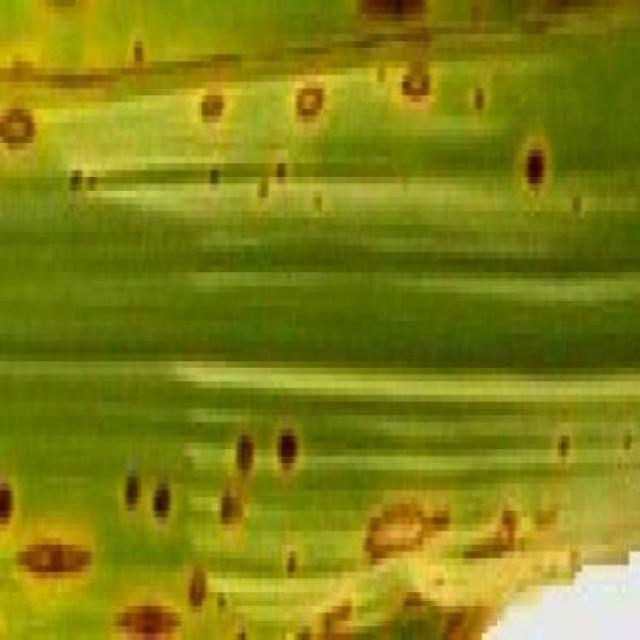Bacterial_Leaf_Blight: (362, 459, 453, 564), (354, 0, 437, 112), (15, 509, 97, 591), (1, 29, 42, 165), (282, 40, 336, 132), (435, 586, 500, 640), (314, 572, 358, 639)
Leaf_Blast: (460, 457, 566, 575), (126, 414, 177, 538), (190, 50, 238, 156), (253, 112, 295, 226), (110, 577, 181, 640), (63, 133, 103, 241), (118, 416, 150, 536), (517, 104, 558, 190), (529, 0, 609, 38), (612, 396, 640, 498), (122, 2, 150, 103), (299, 181, 330, 270), (550, 392, 576, 492), (212, 463, 246, 539), (354, 0, 432, 31), (0, 430, 23, 535), (182, 533, 212, 612), (50, 70, 119, 102), (252, 164, 292, 219), (230, 406, 256, 486), (273, 416, 302, 484), (394, 584, 428, 640), (462, 0, 492, 60), (467, 56, 491, 127), (562, 186, 589, 245), (282, 527, 303, 601), (127, 202, 148, 270), (365, 54, 392, 106), (425, 561, 453, 599), (34, 0, 93, 18), (287, 604, 315, 640), (204, 161, 222, 208), (229, 603, 251, 640), (378, 617, 404, 640), (215, 586, 230, 625), (1, 595, 8, 640)
